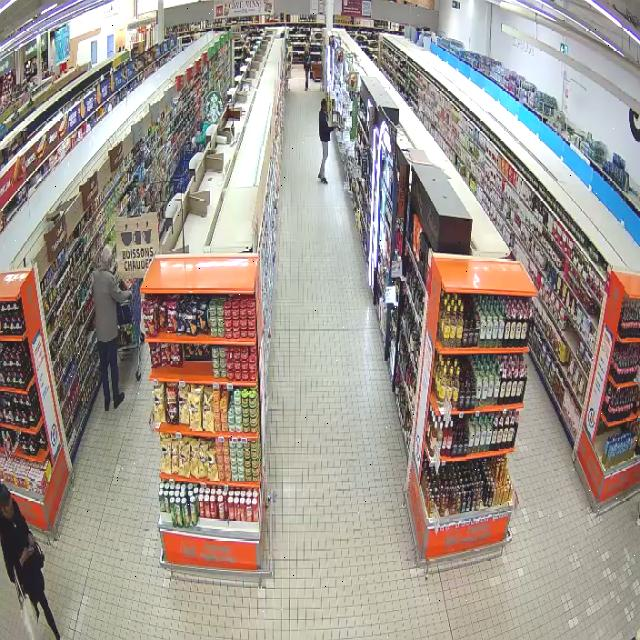article: (336, 126, 343, 134)
hands: (20, 548, 33, 565), (28, 534, 34, 547), (333, 125, 337, 130)
person: (0, 484, 59, 639), (93, 244, 131, 410), (317, 98, 338, 183)
